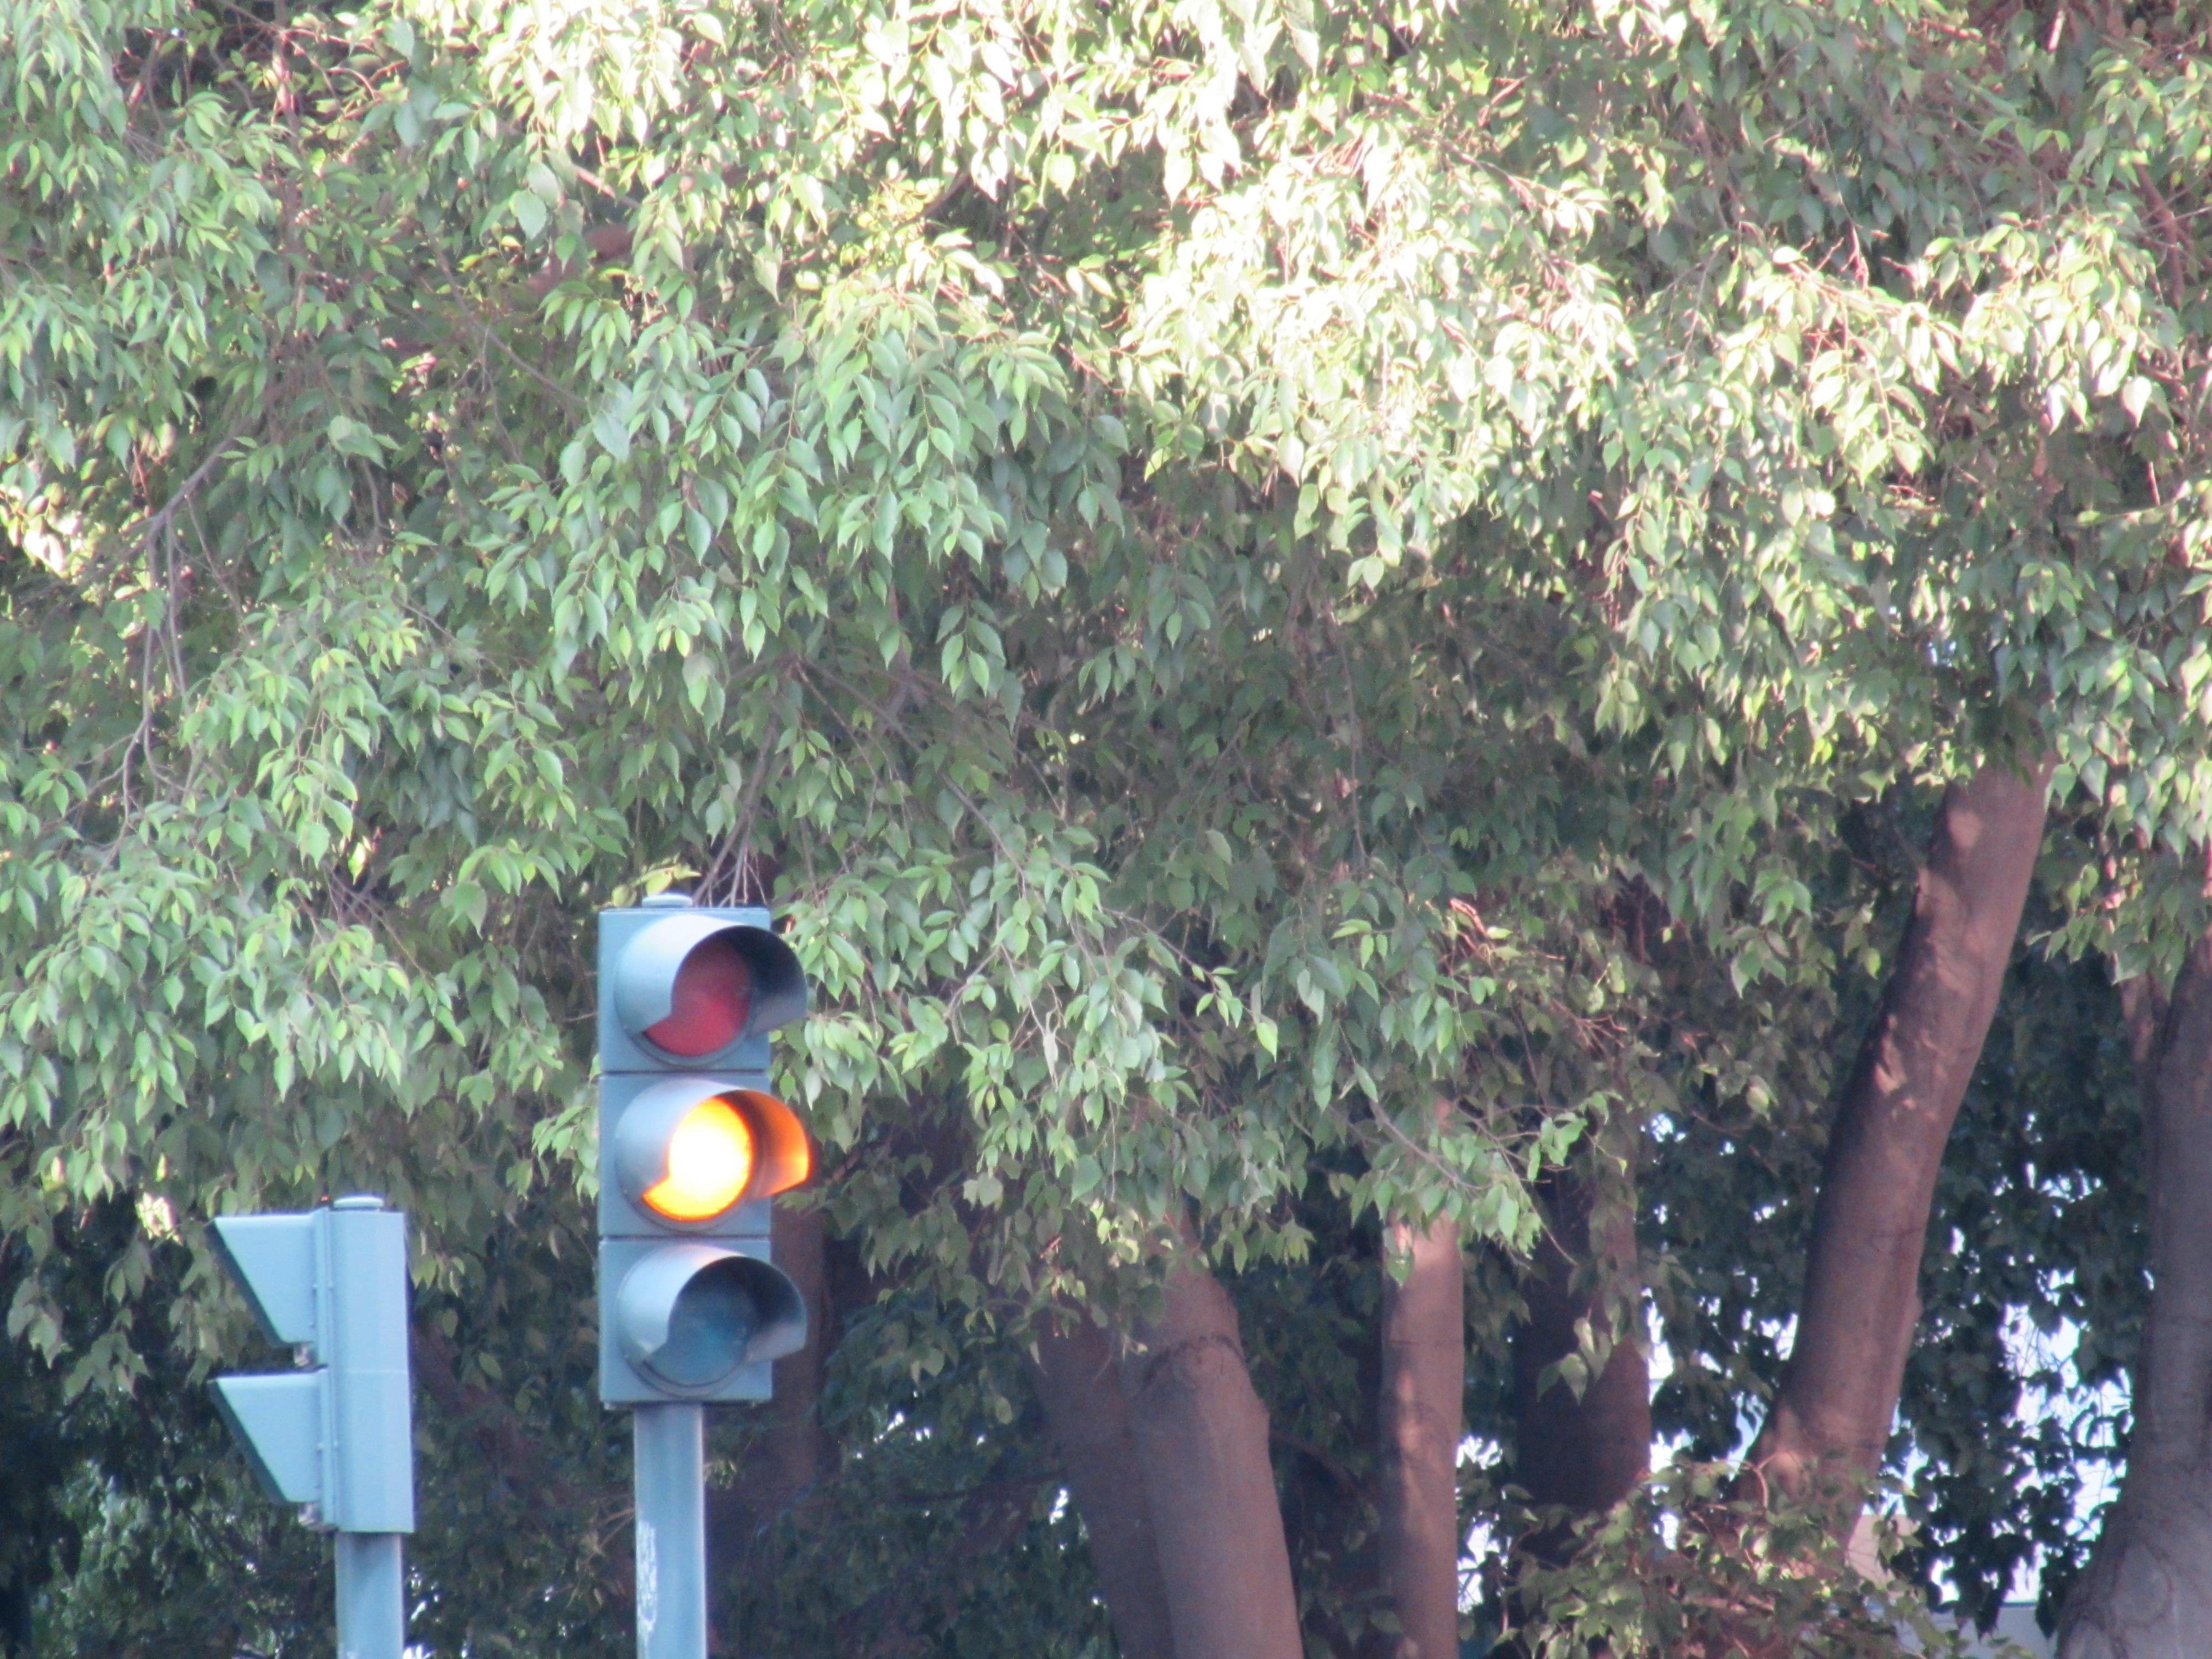yellow_light: (599, 904, 810, 1405)
